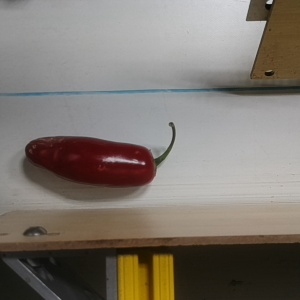Cut Point: (133, 143, 168, 183)
